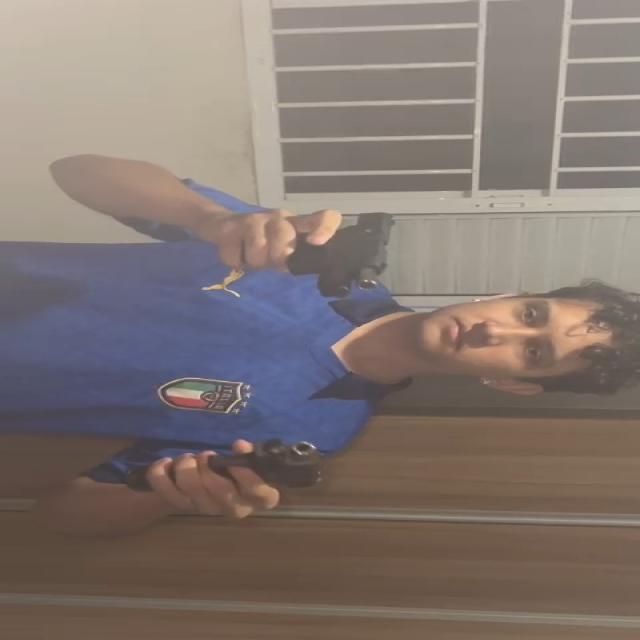gun: (282, 208, 401, 298), (236, 436, 324, 487)
